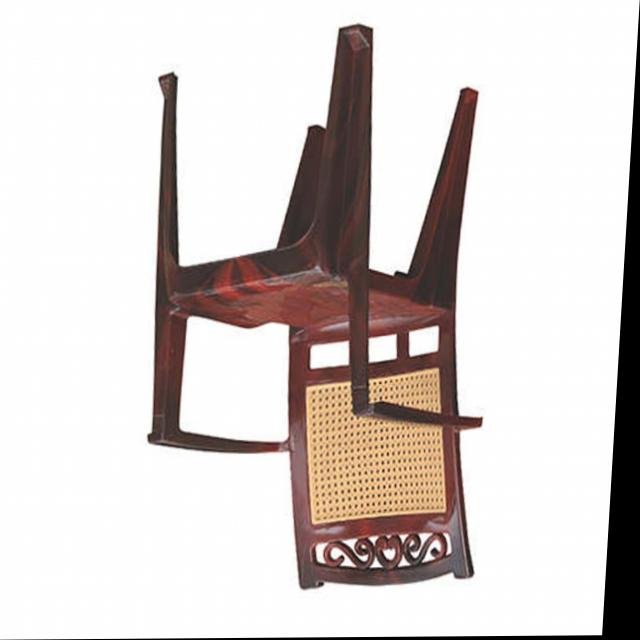Chair: (131, 24, 510, 594)
